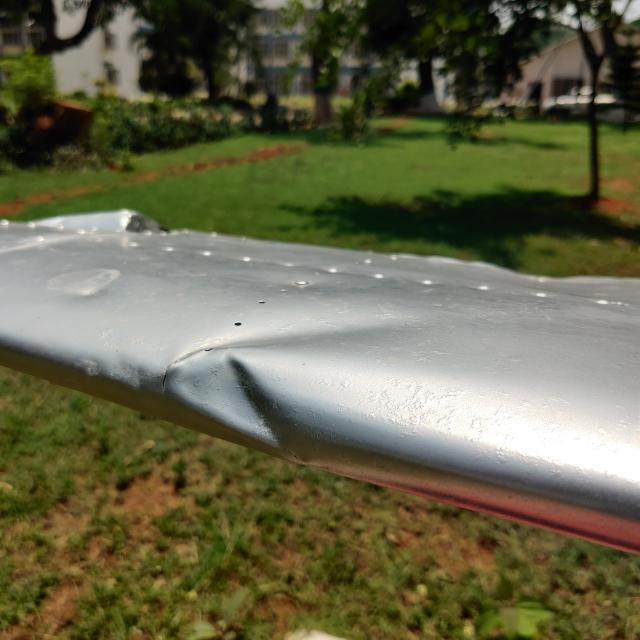crack: (150, 347, 198, 400)
dent: (162, 325, 318, 473)
